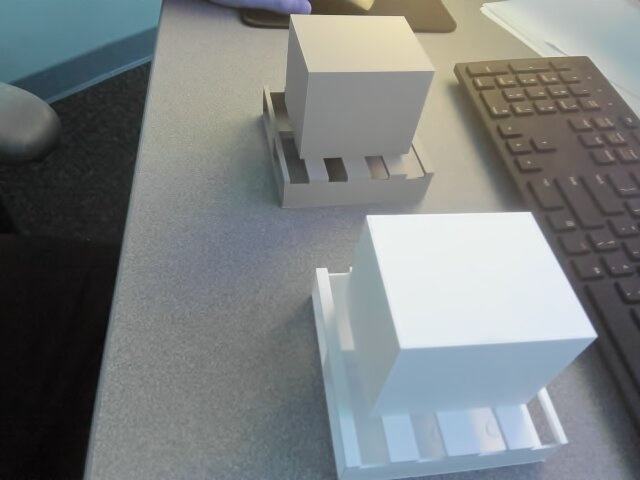grey pallet: (254, 10, 452, 212)
white pallet: (298, 212, 640, 480)
